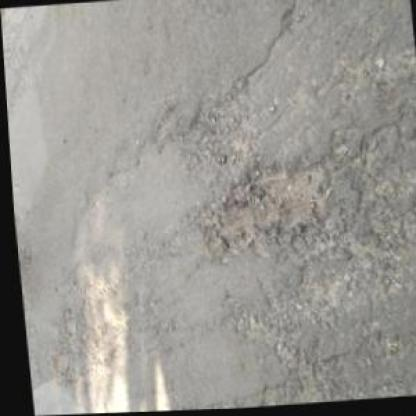pothole: (187, 157, 336, 270), (182, 104, 241, 169)
